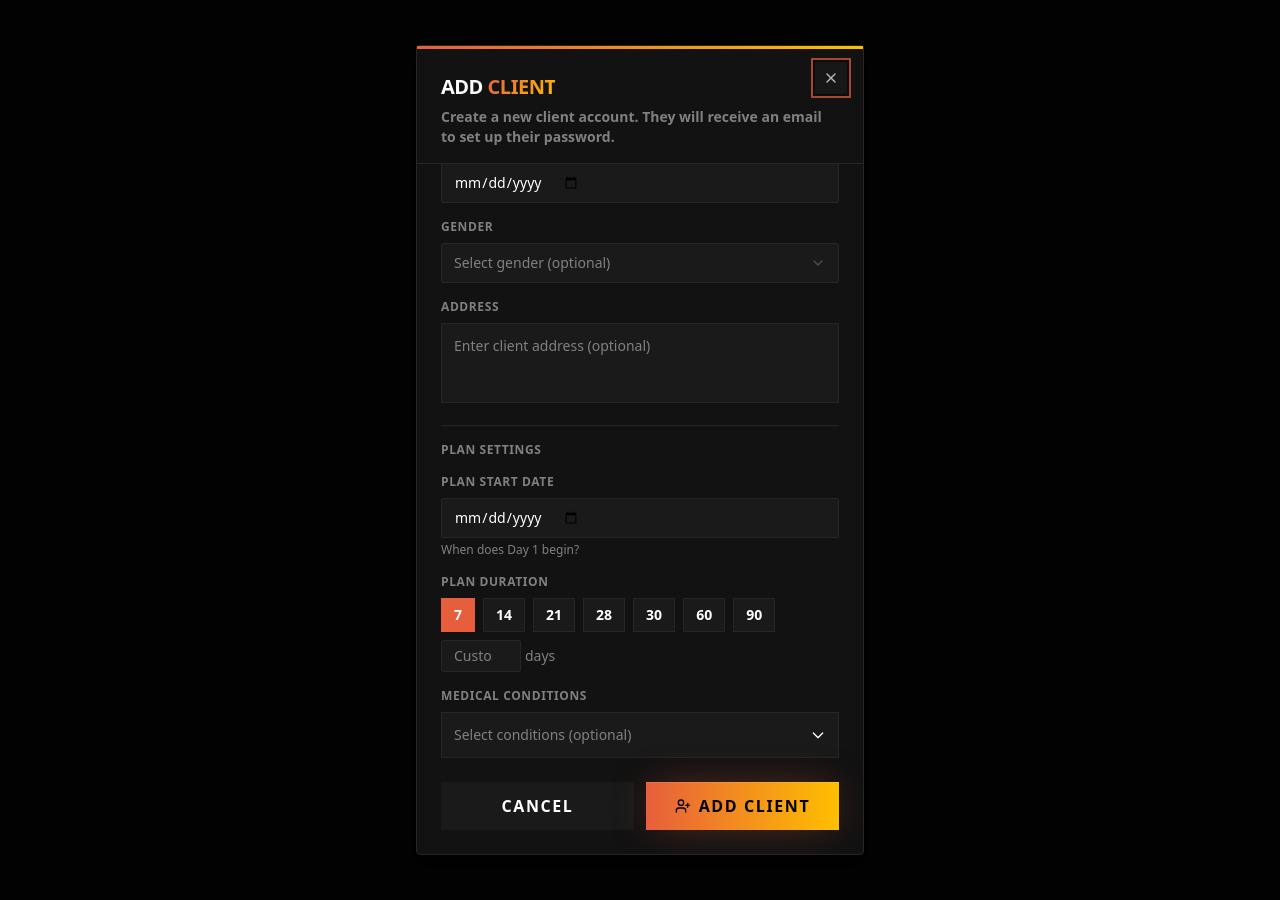
Test case: AddClientModal Component › Medical Conditions Selection › shows conditions dropdown when clicked
The width and height of the screenshot is (1280, 900).
(page scrolled)
Click the button "Select conditions (optional)": click(543, 734) [441,712,839,758]
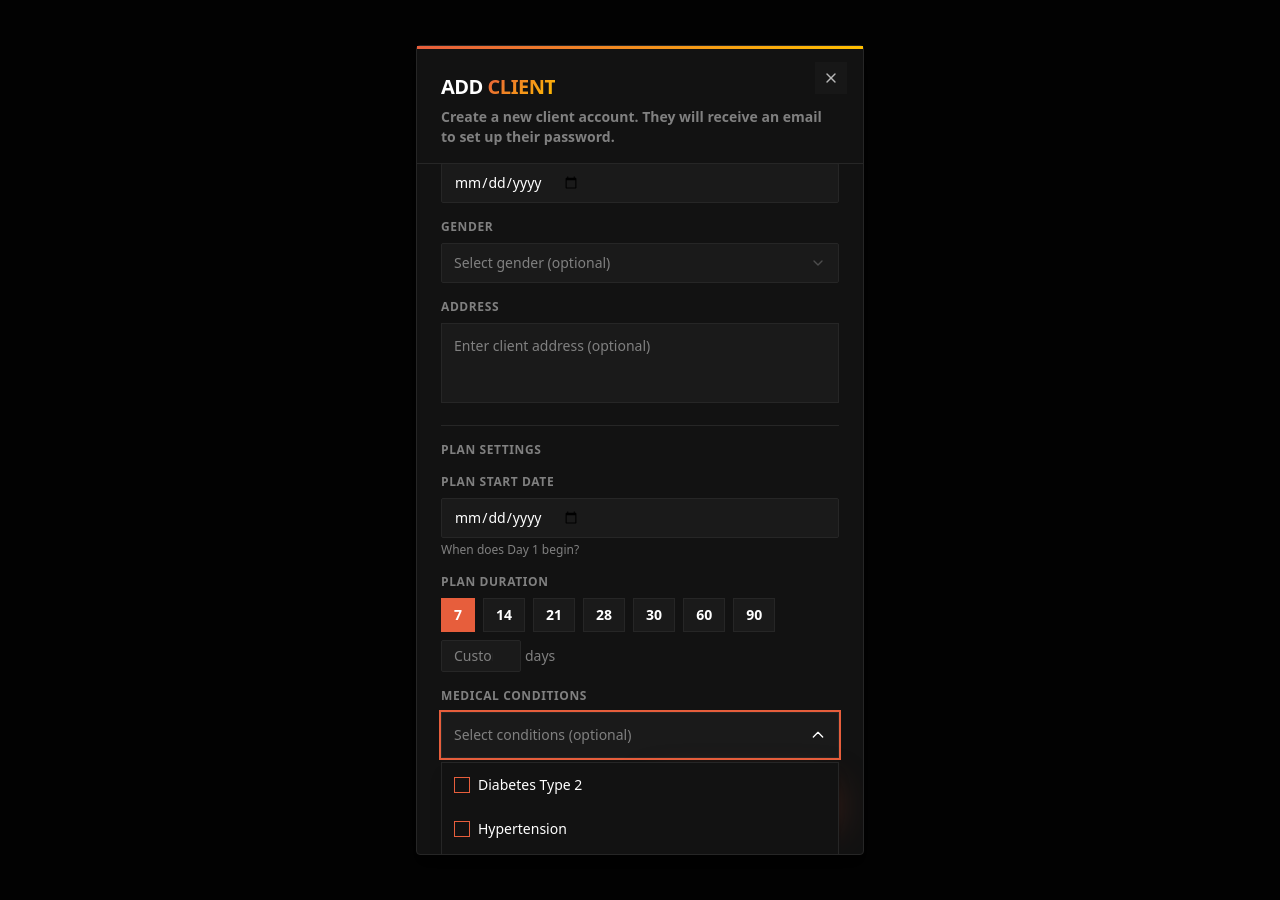
Expected: the text "Diabetes Type 2" is shown, [478,775,582,795]
Expected: the text "Hypertension" is shown, [478,819,567,839]
